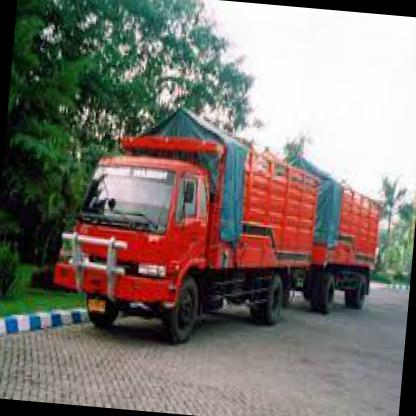truck: (60, 150, 214, 347)
